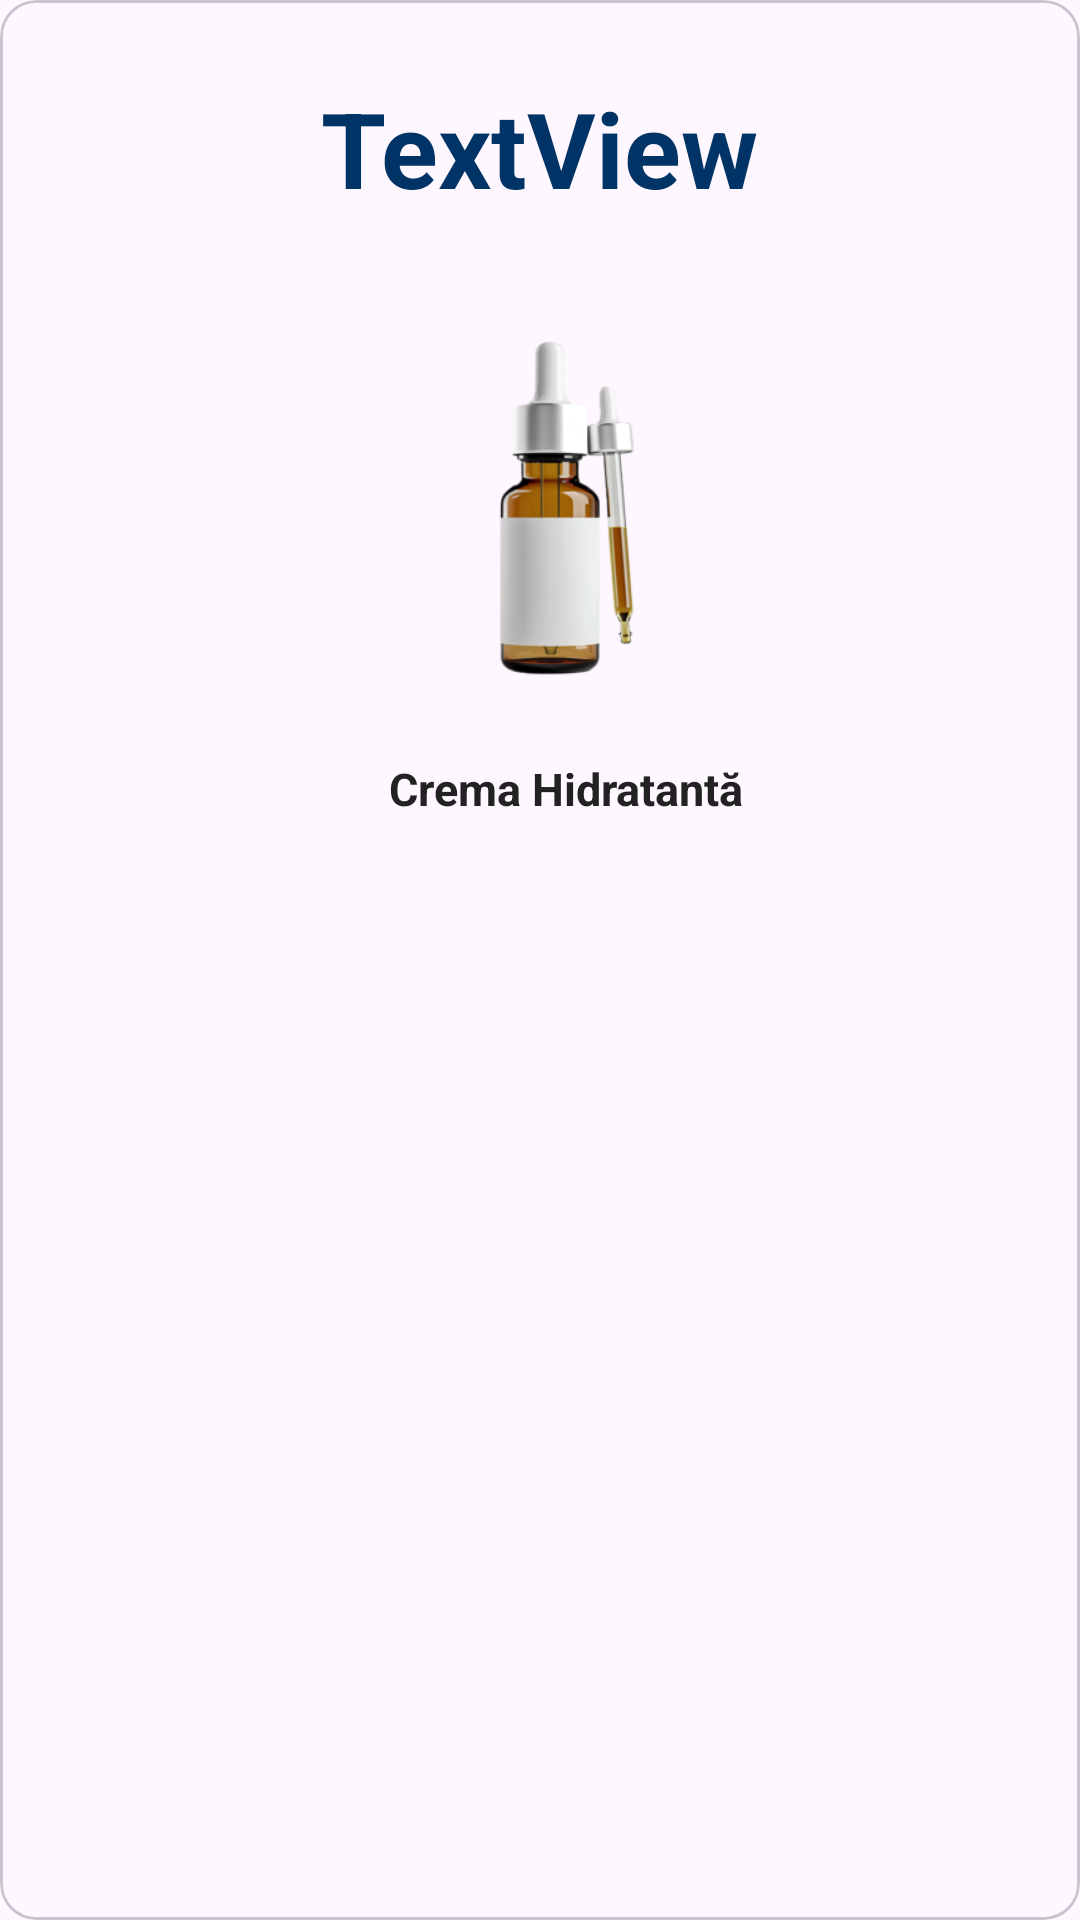

Named icons in this screenshot (1080 × 1920) and their centers, [x,y]:
Imagine produs: [567,508]
